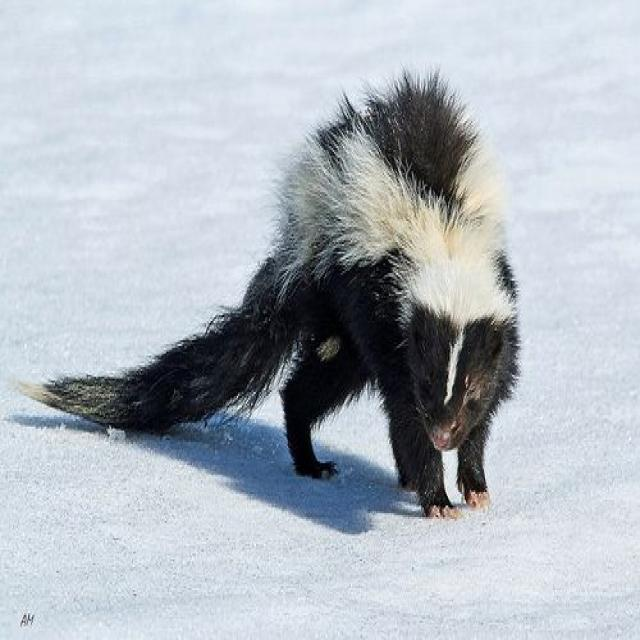Skunk: (15, 59, 566, 520)
